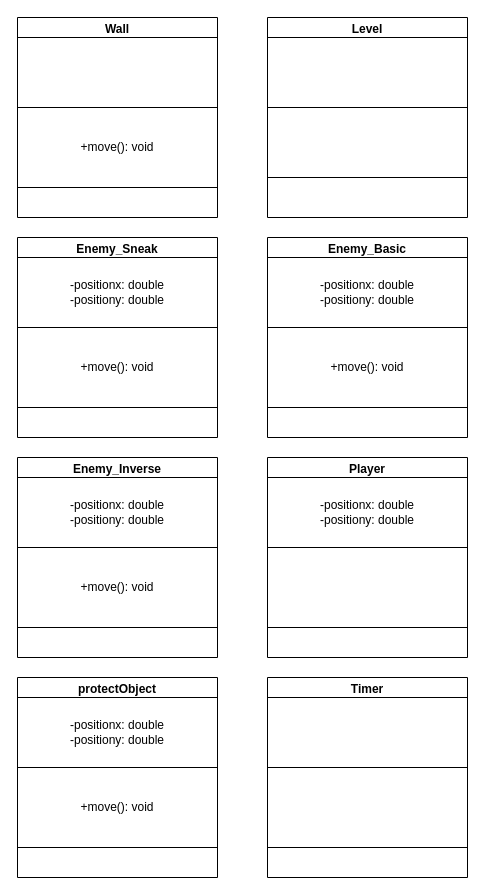
Image size: 485x895. Some labels were removed from this diagram. The shapes that lost their labels are listed below. From the top down, each one's centre as x and y in pixels, then its label:
At (x=117, y=72): "-positionx: double -positiony: double -isFake: boolean".
At (x=367, y=72): "-enemyCount: int -wallCount: int -enemytype: int -secondsLasted: int".
At (x=367, y=142): "+respawnEnemy(): void +respawnWall(): void".
At (x=367, y=587): "+movePlayer(): void".
At (x=367, y=732): "-timeLeft: double".
At (x=367, y=807): "+incrementTime".
